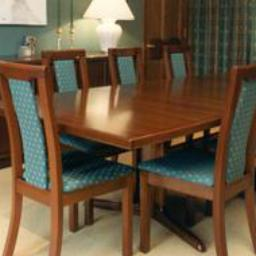Puerta: (137, 0, 188, 73)
